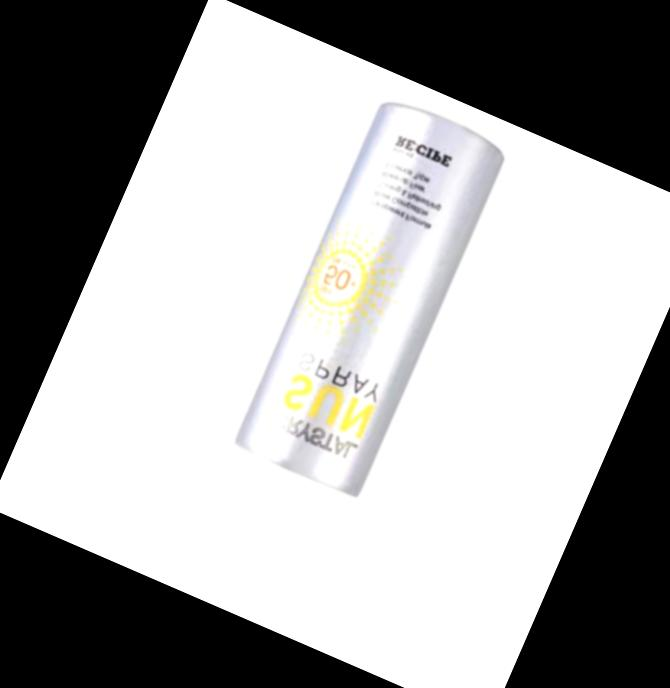cosmetic: (182, 94, 514, 619)
